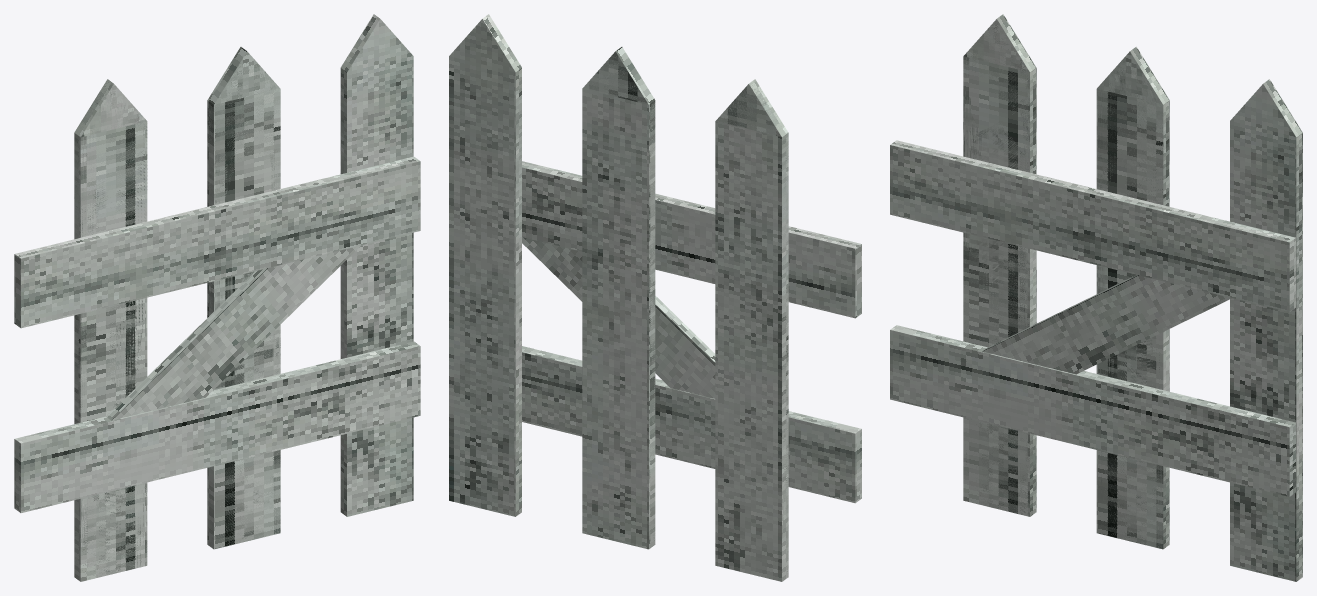
Rendered from white_picket_fence_gate.glb.
The picture shows the model from 3 angles, left to right: view 1: azimuth 30°, elevation 25°; view 2: azimuth 150°, elevation 25°; view 3: azimuth 330°, elevation 25°; orthographic projection.
Parts seen in each view (by area): view 1: white_picket_fence_gate; view 2: white_picket_fence_gate; view 3: white_picket_fence_gate.
Boxes of the visible parts, box(x1,y1,x2,y2) form: white_picket_fence_gate: box(14, 14, 420, 581); white_picket_fence_gate: box(449, 14, 861, 581); white_picket_fence_gate: box(890, 14, 1302, 581).
Size of the model in its own units: 1.35 by 1.58 by 0.0778.
Materials: 1 (1 with a texture image).
